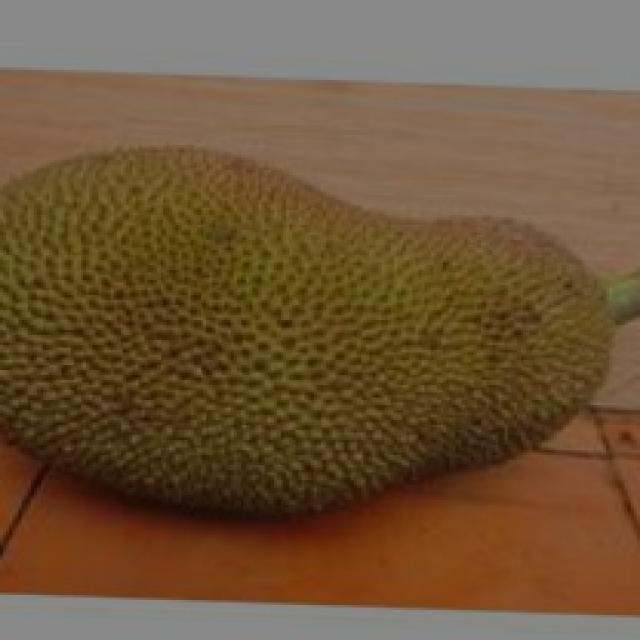Fruit: (267, 137, 640, 532)
